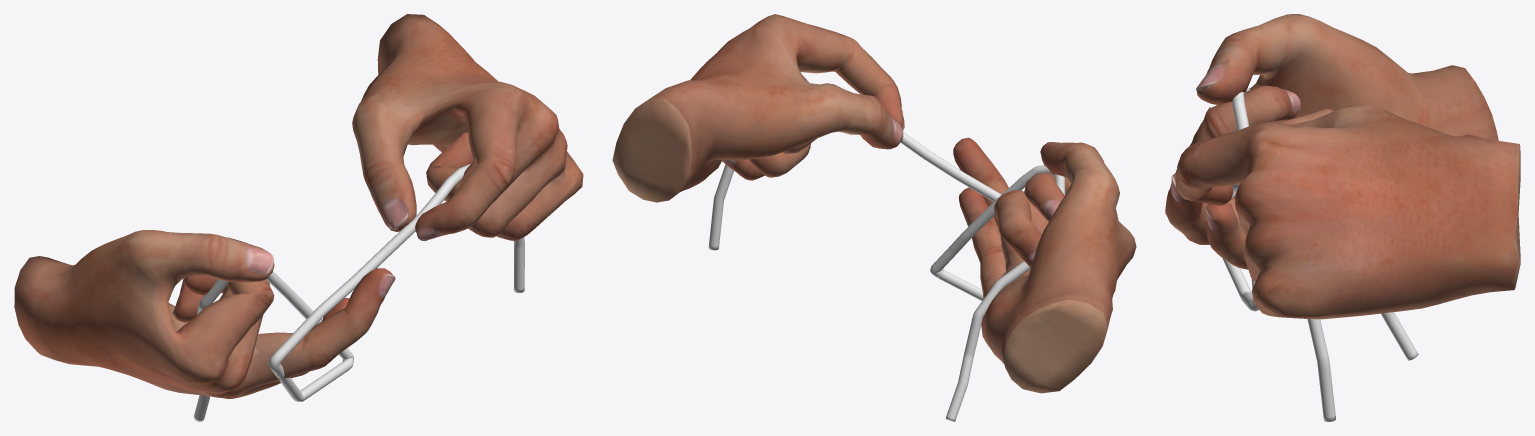
Rendered from mfk_part2_assi_bend.fbx.
3 views of the same model, side by side, from view 1: azimuth 30°, elevation 25°; view 2: azimuth 150°, elevation 25°; view 3: azimuth 270°, elevation 25° (orthographic). The views are drawn at different scales.
Visible parts, largest first — view 1: Hand_R, Hand_L, faden_L, faden_R; view 2: Hand_L, Hand_R, faden_R, faden_L; view 3: Hand_L, Hand_R, faden_R, faden_L.
Boxes of the visible parts, <box> form: Hand_R: <box>14,230,395,398</box>; Hand_L: <box>352,14,583,241</box>; faden_L: <box>268,163,524,392</box>; faden_R: <box>194,271,353,421</box>; Hand_L: <box>612,14,904,202</box>; Hand_R: <box>953,137,1136,393</box>; faden_R: <box>930,165,1065,421</box>; faden_L: <box>708,132,1001,250</box>; Hand_L: <box>1175,104,1520,319</box>; Hand_R: <box>1165,14,1498,269</box>; faden_R: <box>1228,87,1418,360</box>; faden_L: <box>1222,184,1335,421</box>.
Size of the model in its own units: 32.01 by 19.44 by 17.03.
